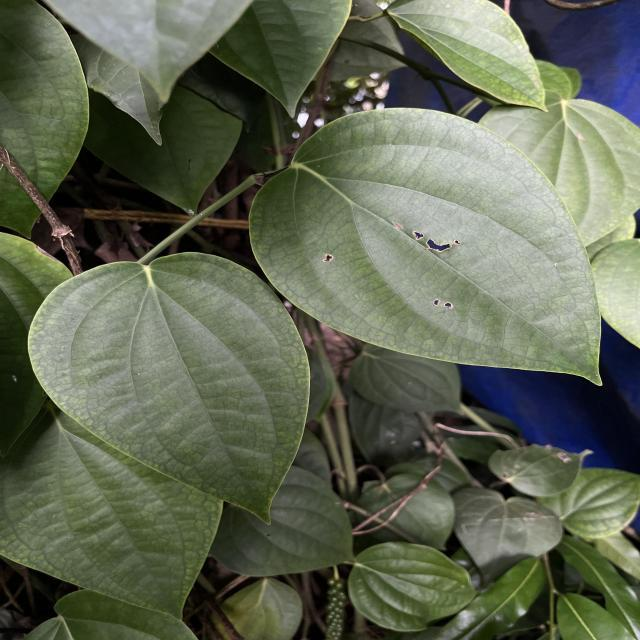Piper nigrum: (247, 105, 608, 388), (26, 250, 312, 528)
